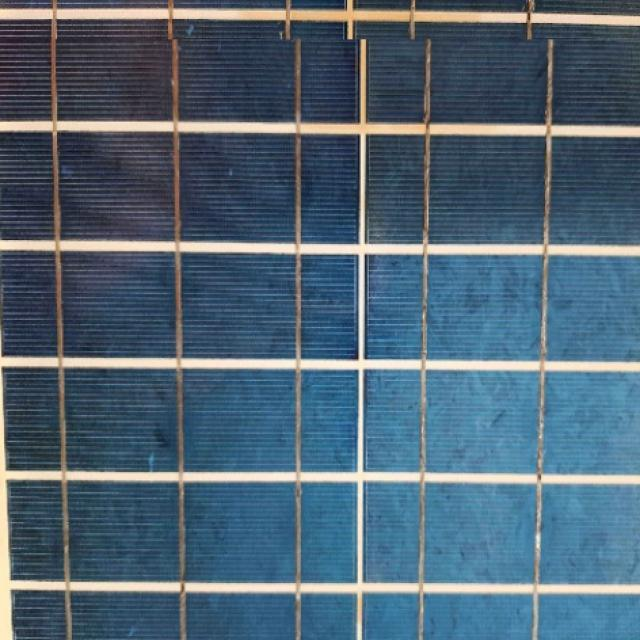Clean: (0, 39, 640, 640)
